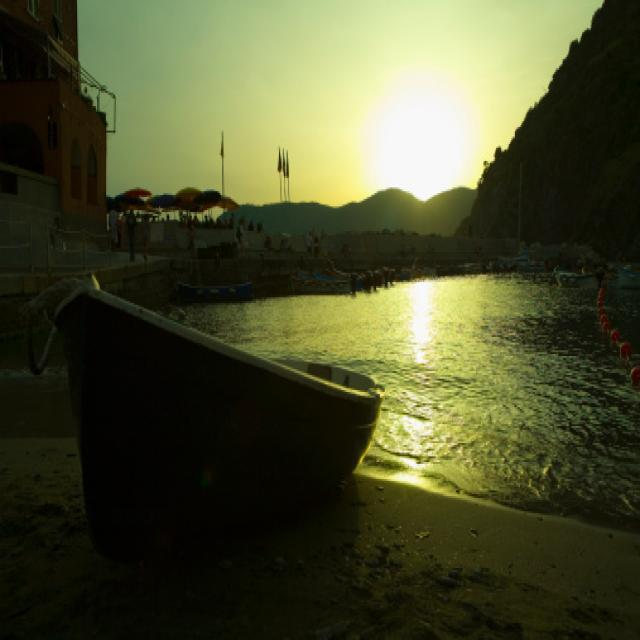Boat: (47, 260, 391, 561)
